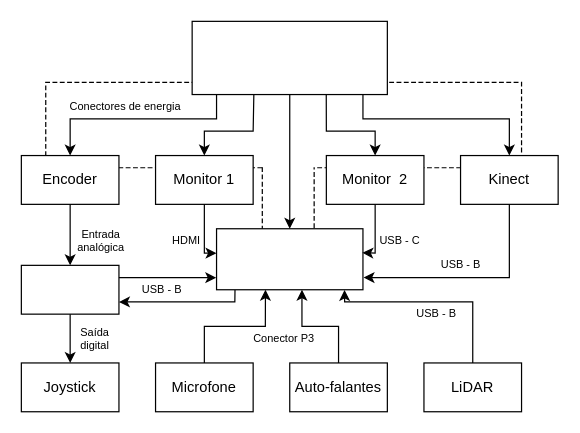
The diagram is 580 pixels wide and 433 high, and some of its shapes have lost their labels. The centre of each missing label's shape, as x and y in pixels:
"Arduino" goes at pixel 69 289.
"COMPUTADOR" goes at pixel 289 259.
"Placa Circuito Impresso CONVERSOR" goes at pixel 289 57.
